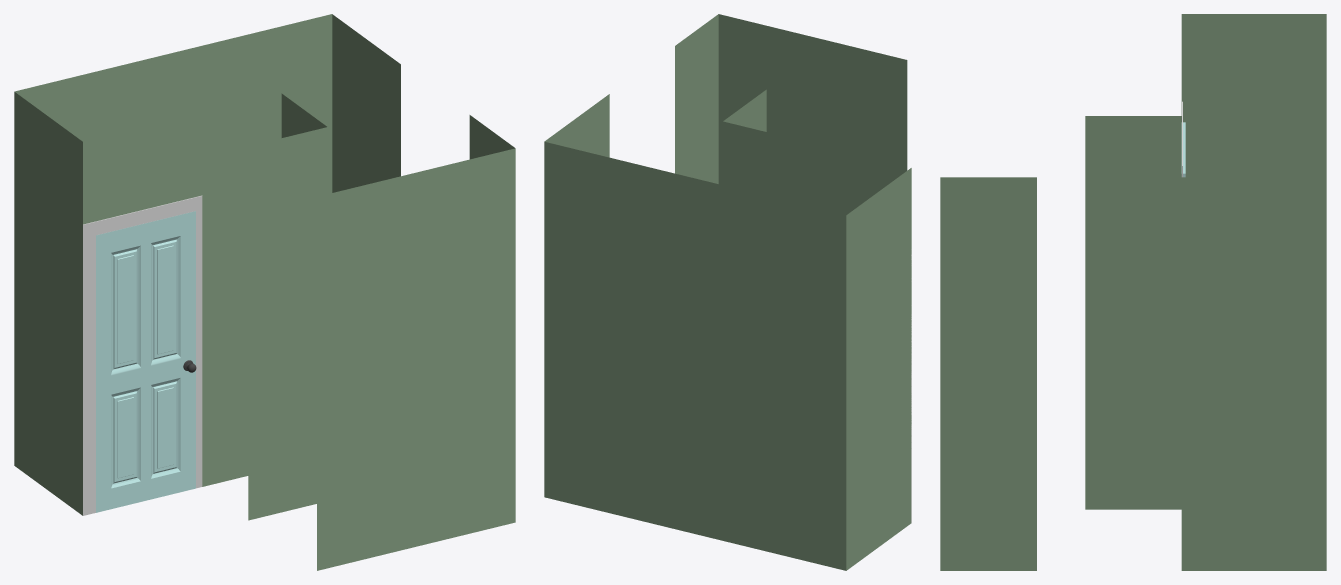
File: green from main.fbx
3 views of the same model, side by side, from view 1: azimuth 30°, elevation 25°; view 2: azimuth 150°, elevation 25°; view 3: azimuth 270°, elevation 25° (orthographic). The views are drawn at different scales.
Parts seen in each view (by area): view 1: pPlane29, pPlane31, door, pPlane35, pPlane32, pPlane33, pPlane36, door_trim, pPlane30, pPlane34; view 2: pPlane31, pPlane32, pPlane29, pPlane30, pPlane35, pPlane33, pPlane36, pPlane34; view 3: pPlane36, pPlane30, pPlane34, pPlane32.
Part boxes in pixels (x1=…): pPlane29: x1=317, y1=148, x2=515, y2=570; pPlane31: x1=14, y1=14, x2=332, y2=224; door: x1=96, y1=211, x2=195, y2=512; pPlane35: x1=248, y1=127, x2=327, y2=520; pPlane32: x1=14, y1=92, x2=82, y2=515; pPlane33: x1=202, y1=93, x2=281, y2=486; pPlane36: x1=332, y1=14, x2=400, y2=192; door_trim: x1=83, y1=195, x2=202, y2=515; pPlane30: x1=469, y1=115, x2=514, y2=159; pPlane34: x1=281, y1=93, x2=326, y2=137; pPlane31: x1=544, y1=141, x2=846, y2=570; pPlane32: x1=846, y1=168, x2=911, y2=570; pPlane29: x1=718, y1=14, x2=907, y2=215; pPlane30: x1=675, y1=14, x2=718, y2=183; pPlane35: x1=766, y1=89, x2=841, y2=214; pPlane33: x1=723, y1=121, x2=798, y2=203; pPlane36: x1=544, y1=94, x2=609, y2=157; pPlane34: x1=723, y1=89, x2=766, y2=131; pPlane36: x1=1181, y1=177, x2=1326, y2=570; pPlane30: x1=940, y1=177, x2=1036, y2=570; pPlane34: x1=1085, y1=116, x2=1181, y2=509; pPlane32: x1=1181, y1=14, x2=1326, y2=177.
Bounding box in the file's own units: 2.44 × 2.74 × 2.44.
